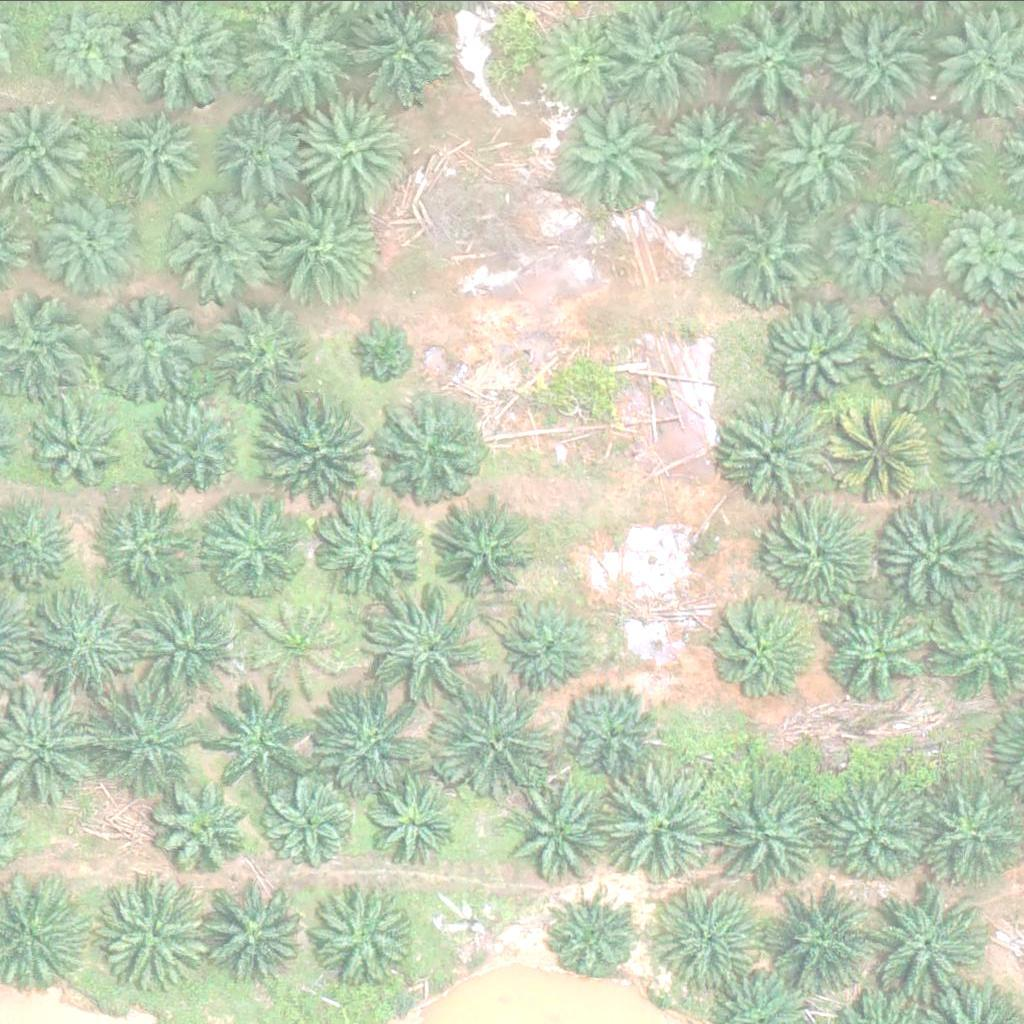Kelapa_Sawit: (811, 770, 925, 883), (439, 682, 553, 795), (716, 779, 830, 892), (652, 881, 766, 994), (824, 4, 937, 117), (877, 298, 990, 411), (884, 495, 997, 608), (826, 593, 939, 706), (230, 3, 343, 116), (294, 96, 407, 209), (35, 191, 148, 304), (154, 191, 267, 304), (268, 199, 381, 312), (720, 1, 833, 114), (563, 96, 676, 209), (765, 299, 878, 412), (95, 294, 208, 407), (264, 395, 377, 508), (313, 681, 426, 794), (94, 879, 207, 992), (128, 1, 242, 113), (314, 488, 428, 600), (25, 587, 139, 699), (138, 586, 252, 698), (703, 593, 817, 705), (760, 883, 874, 995), (203, 873, 317, 985), (871, 891, 984, 1003), (753, 94, 866, 206), (716, 200, 829, 312), (722, 397, 835, 509), (766, 507, 879, 619), (380, 394, 493, 506), (369, 590, 482, 702), (200, 685, 313, 797), (85, 681, 198, 793), (493, 769, 606, 881), (607, 765, 720, 877), (213, 102, 314, 202), (100, 98, 201, 198), (533, 9, 634, 109), (667, 101, 768, 201), (214, 298, 315, 398), (146, 401, 247, 501), (242, 592, 343, 692), (560, 685, 661, 785), (260, 775, 361, 875), (356, 771, 457, 871), (312, 882, 413, 982), (837, 404, 937, 504), (433, 499, 533, 599), (104, 495, 204, 595), (205, 502, 305, 602), (506, 596, 606, 696), (153, 778, 253, 878), (44, 2, 132, 90), (33, 402, 121, 490), (894, 107, 982, 194), (839, 205, 927, 292), (546, 894, 634, 981), (343, 313, 418, 388)
